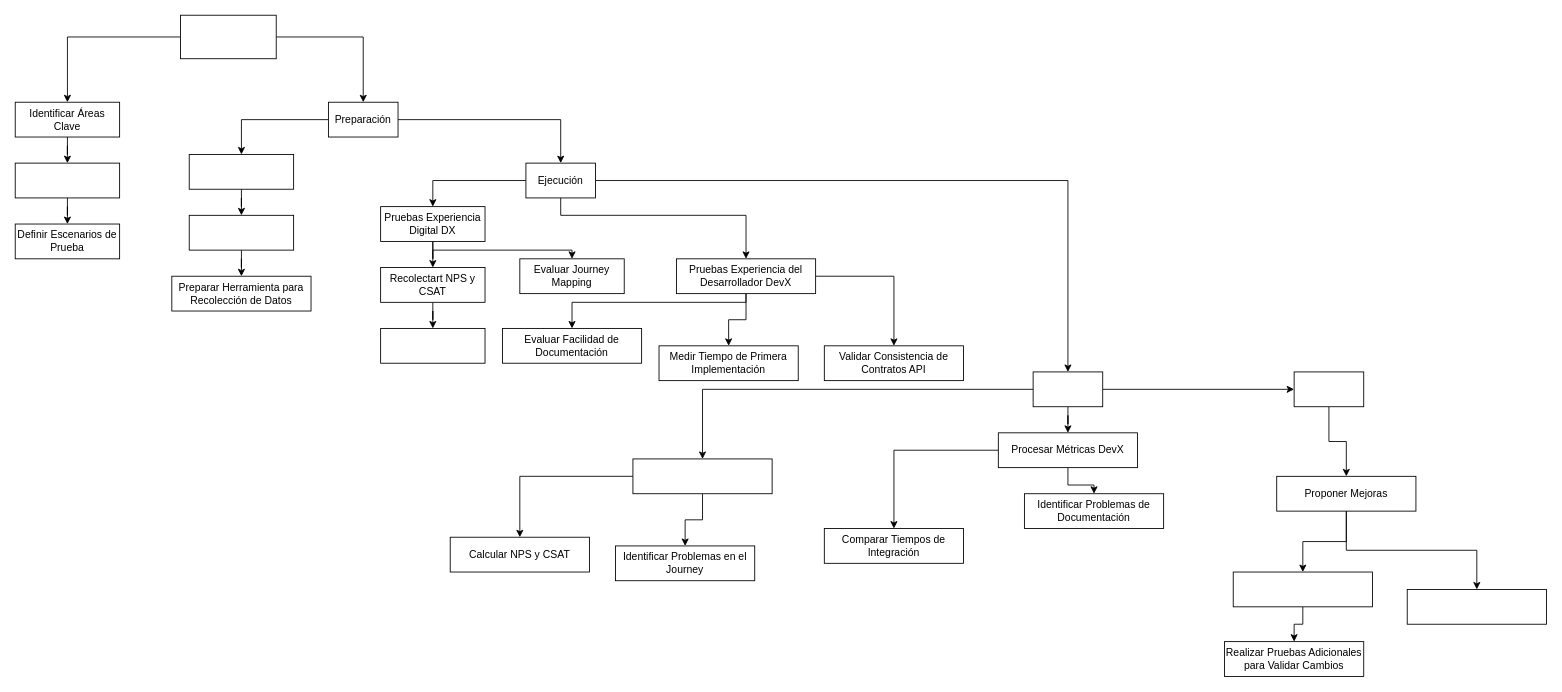
Image size: 1562x692. Some labels were removed from this diagram. The shapes that lost their labels are listed below. From the top down, each one's box as (x1, y1, x2, y2) in pixels, then its label:
(180, 14, 276, 59): Planificación
(14, 162, 120, 198): Seleccionar Métricas DX y DevX
(188, 154, 294, 189): Reclutar Usuarios y Desarrolladores
(188, 214, 294, 250): Configurar Entornos de Prueba
(380, 328, 485, 363): Registrar Latencia Percibida
(1032, 371, 1103, 407): Analisis
(1293, 371, 1364, 407): Mitigación y Validación
(632, 458, 772, 494): Procesar Métricas DX
(1232, 571, 1372, 607): Optimizar Latencia y Flujo de Usuario
(1406, 589, 1546, 624): Mejorar Documentación y APIs
